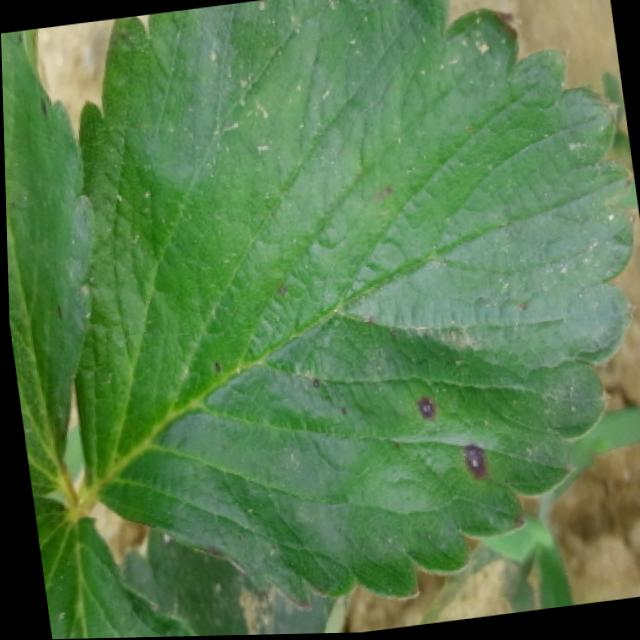Leaf Spot: (70, 0, 634, 611), (1, 27, 95, 495), (28, 495, 195, 639)
